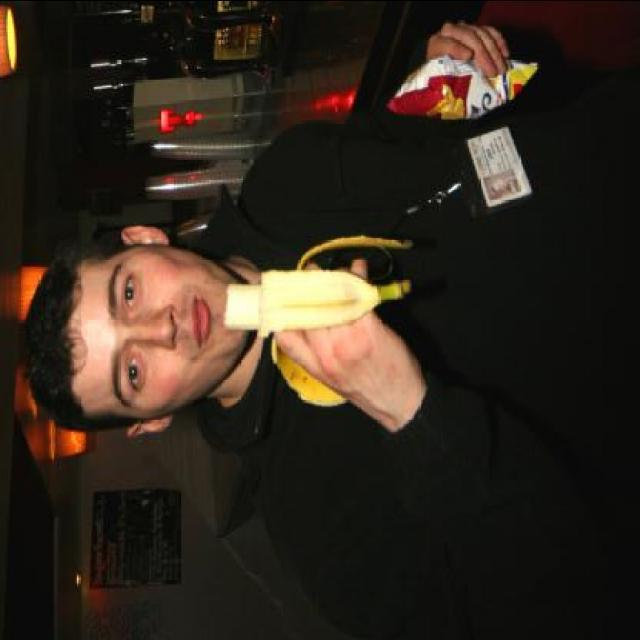Banana: (224, 232, 413, 412)
